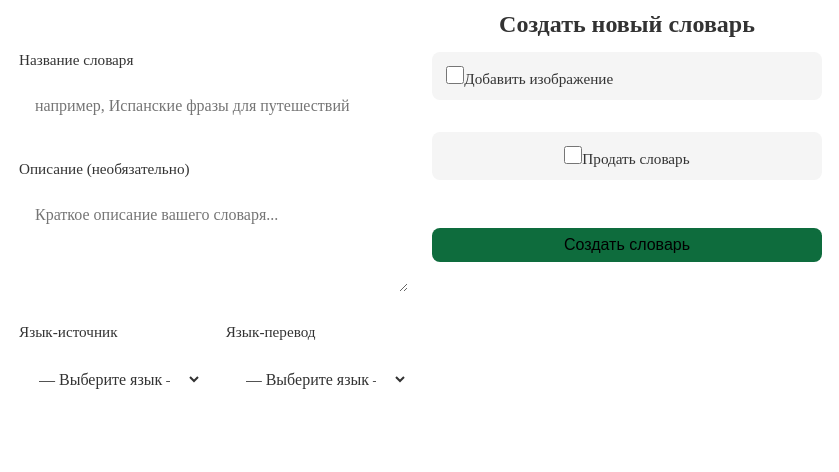
Test: AddDict Component › валидирует обязательные поля
Step 1. Click the button "Создать словарь" → [627, 245], box [432, 228, 822, 262]
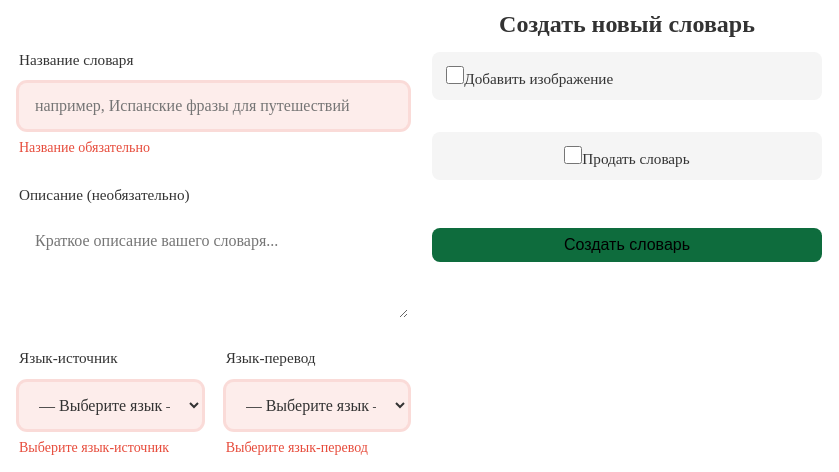
expect the text "Название обязательно" is shown: met, box [19, 140, 150, 155]
